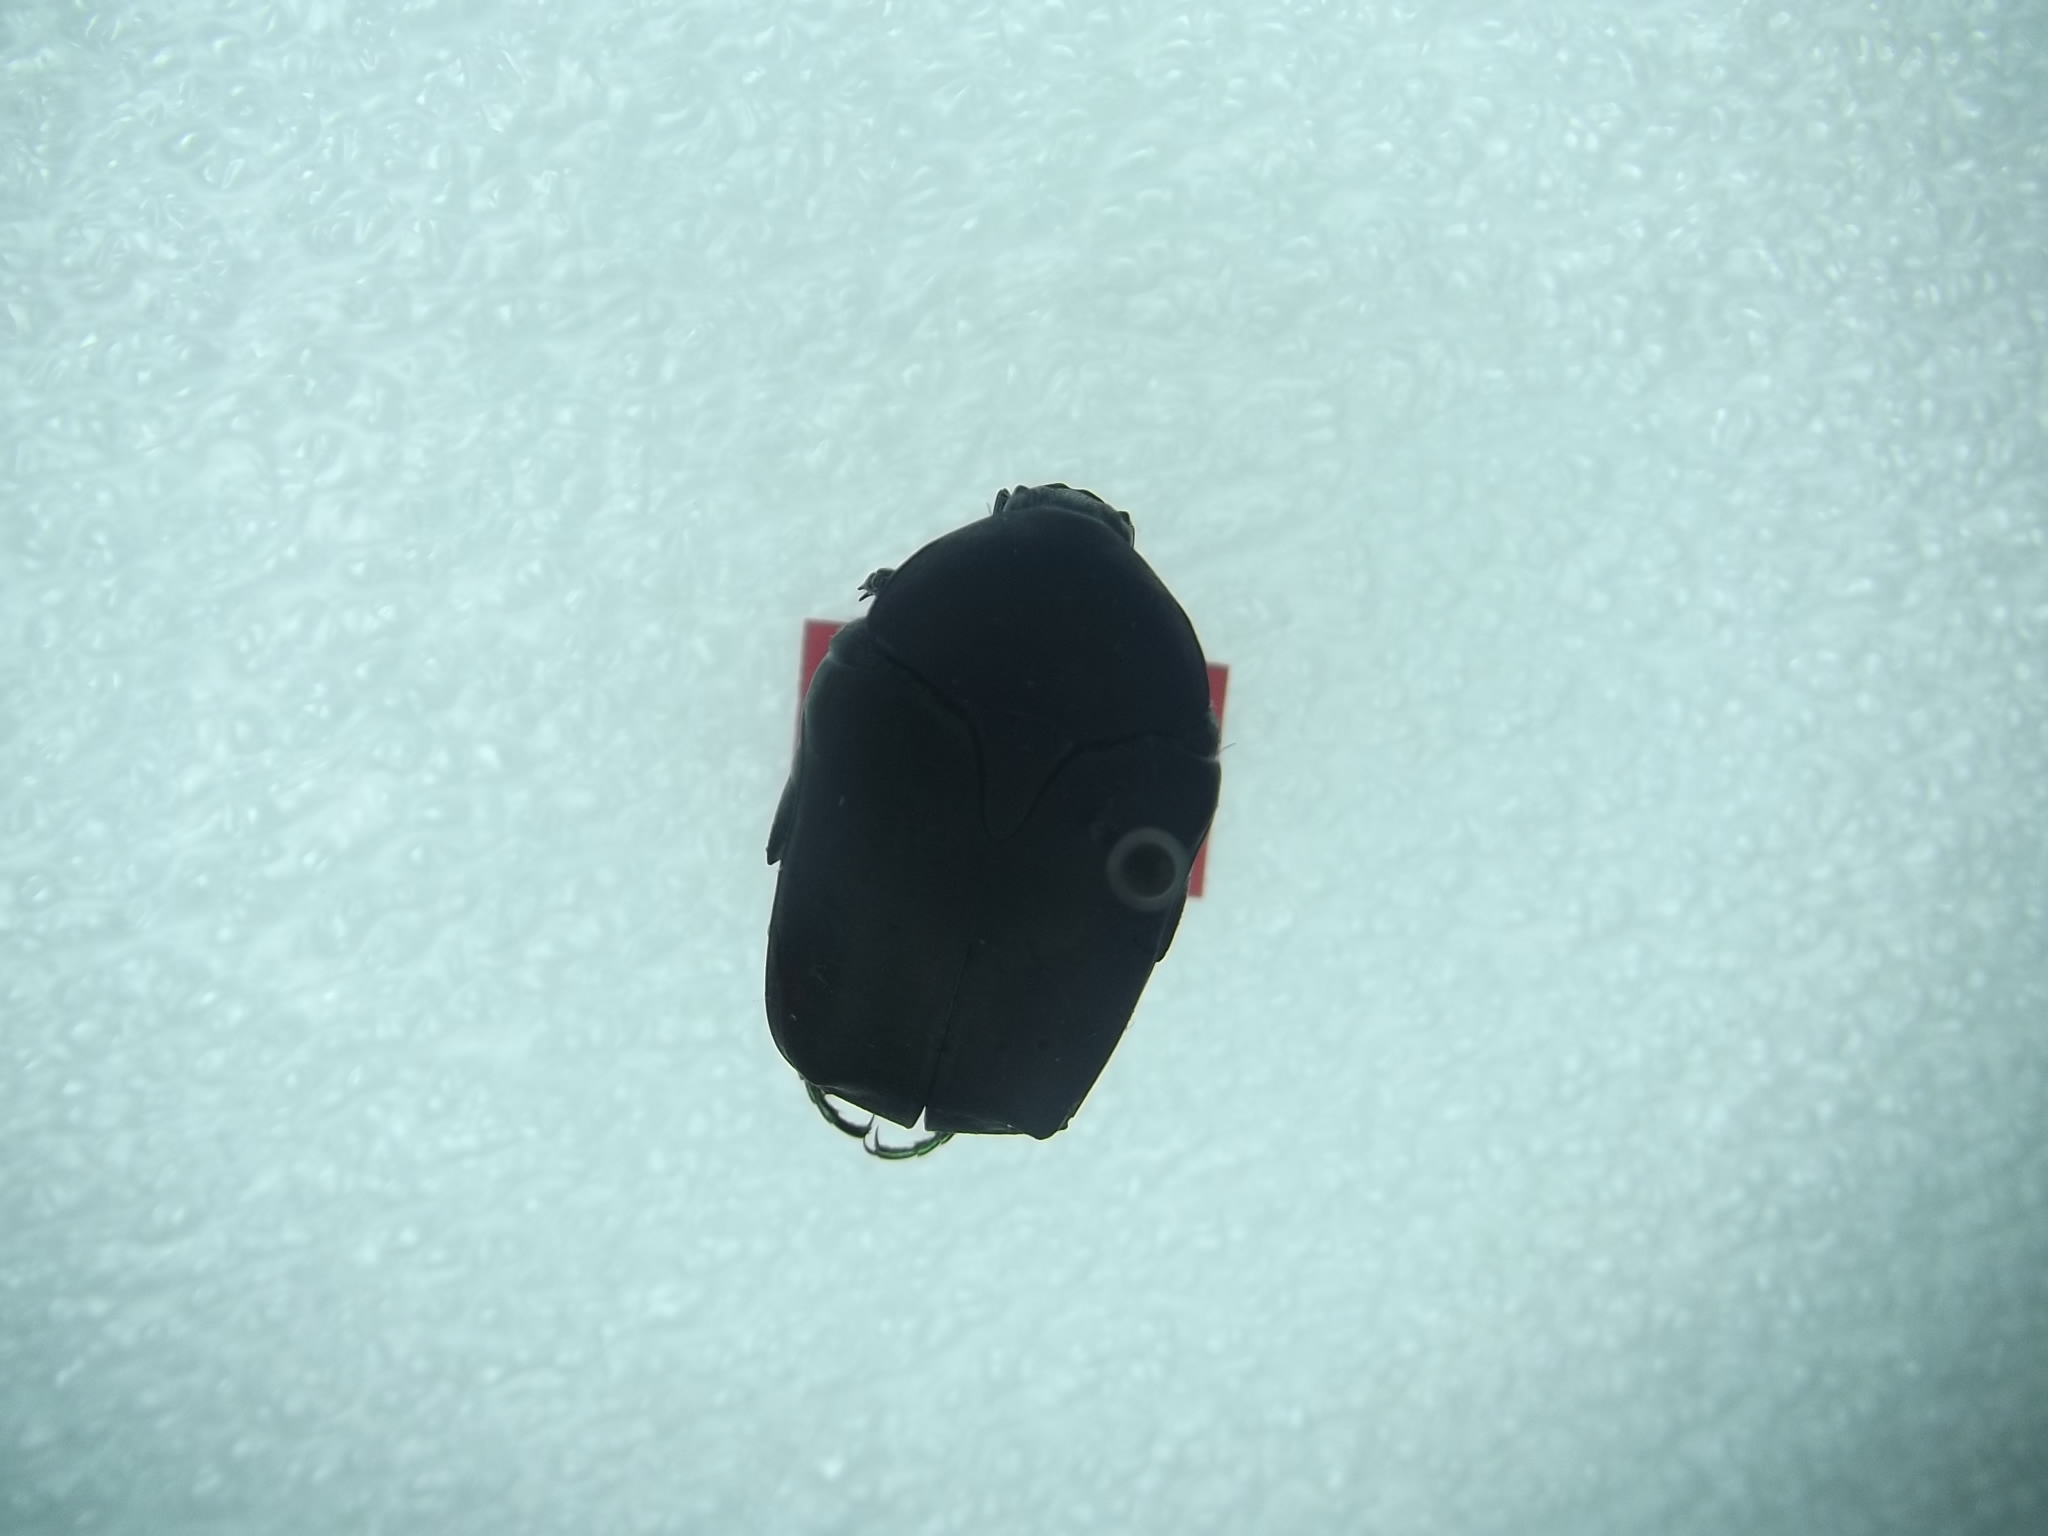Protaetia_ungarica_americana: (729, 442, 1226, 1179)
